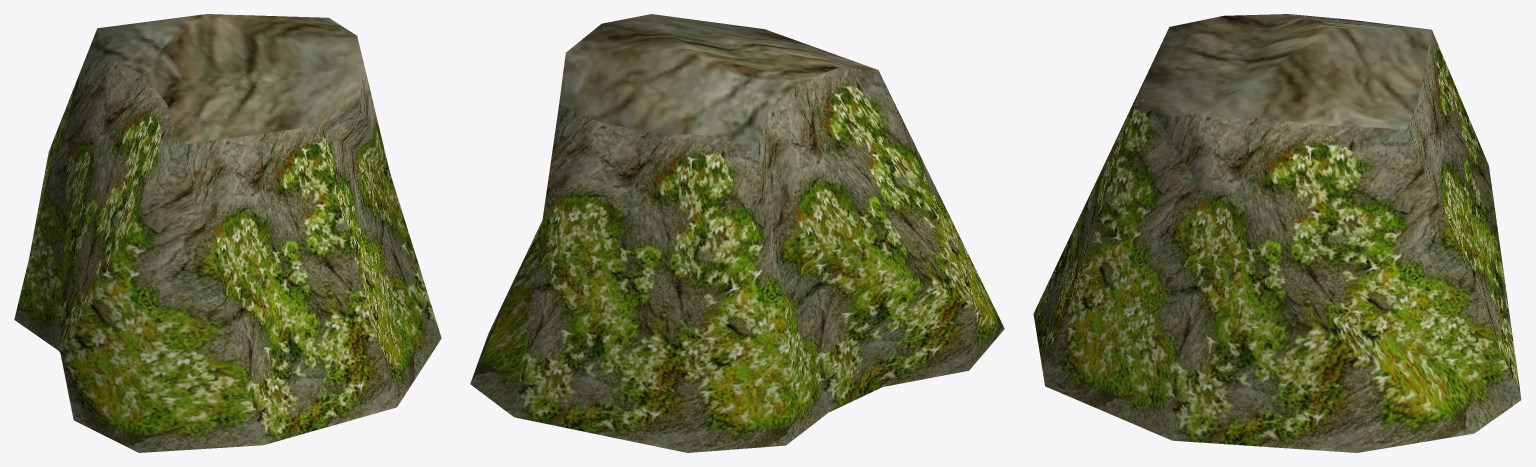
The model's file is rock_liaaba_covered_a2_l3.fbx.
3 views of the same model, side by side, from view 1: azimuth 30°, elevation 25°; view 2: azimuth 150°, elevation 25°; view 3: azimuth 270°, elevation 25° (orthographic). The views are drawn at different scales.
Parts seen in each view (by area): view 1: mesh_node; view 2: mesh_node; view 3: mesh_node.
Boxes of the visible parts, x1,y1,x2,y2 form: mesh_node: (14,14,441,452); mesh_node: (470,14,1004,452); mesh_node: (1033,14,1521,452).
Size of the model in its own units: 4.88 by 3.65 by 4.91.
Materials: 1 (1 with a texture image).
